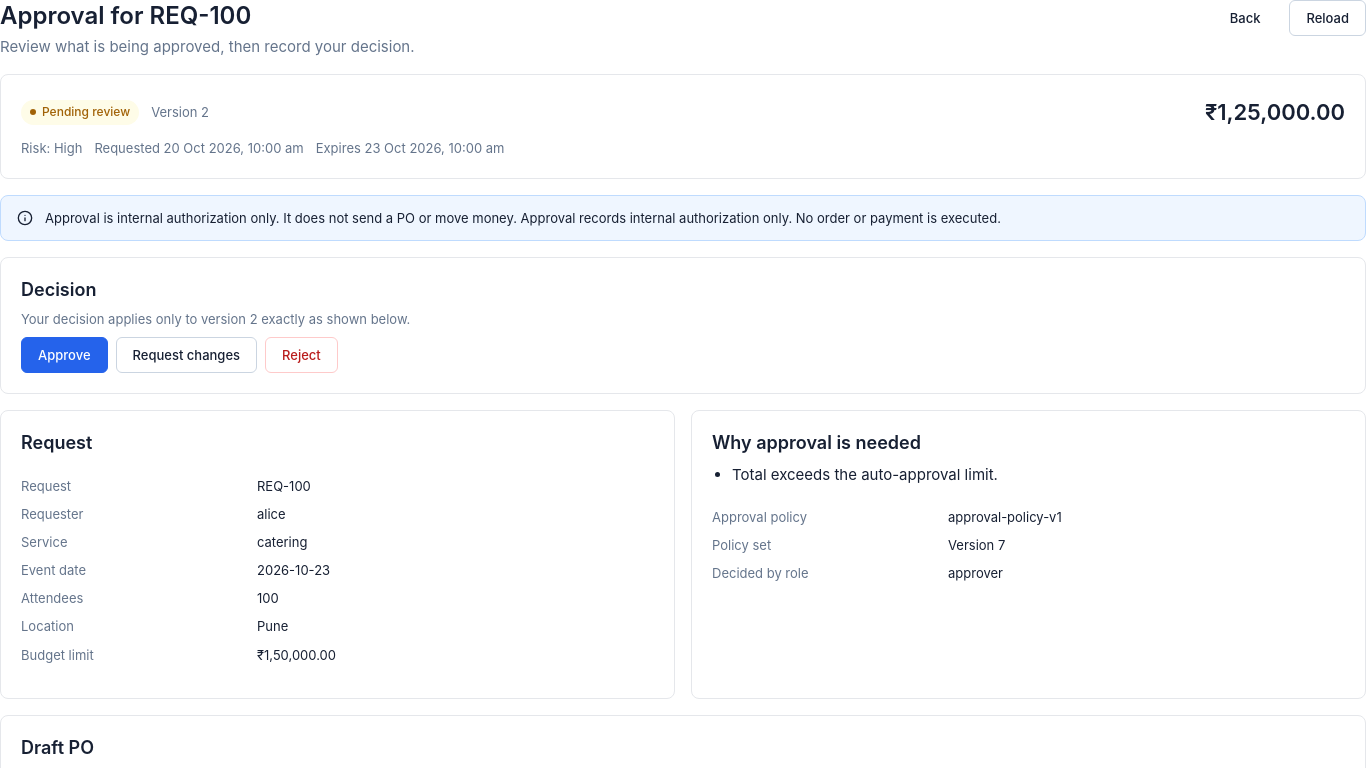
Scenario: ApprovalDetailPage › reject requires a reason before submitting
Click the button "Reject" at (301, 355), box 265,337 -> 338,373
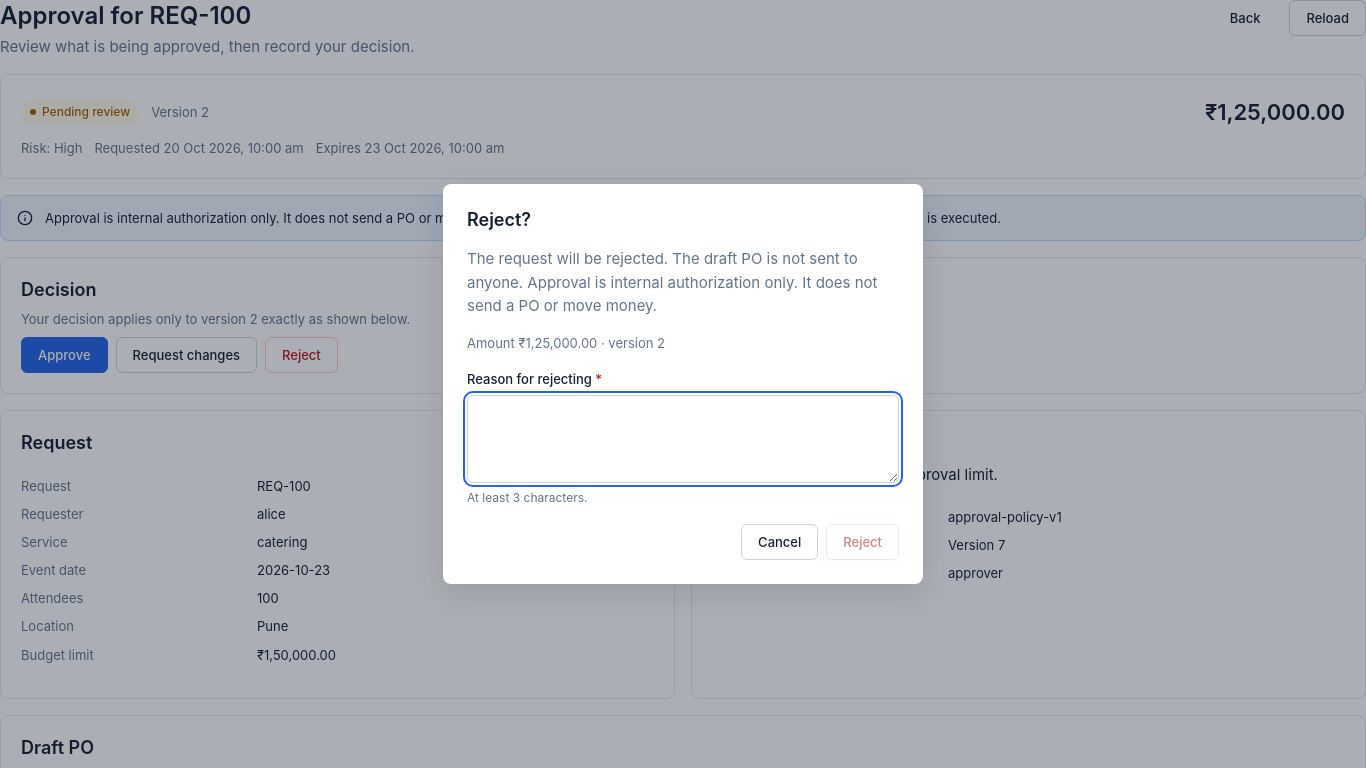
Check: the button "Reject" is disabled, box 826,524 -> 899,560
Type "Over budget" into the text box labelled "Reason for rejecting" at (683, 439), box 467,395 -> 899,483
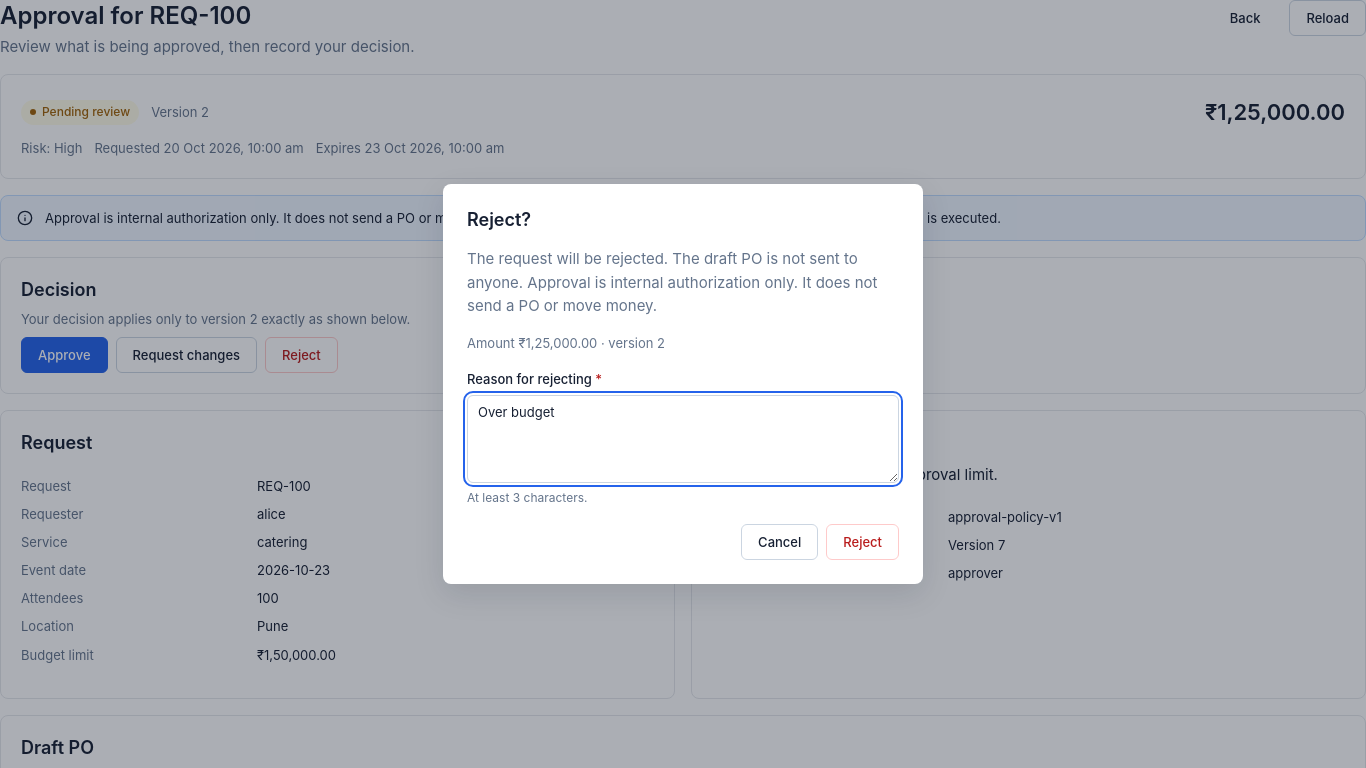
Click the button "Reject" at (863, 542), box 826,524 -> 899,560
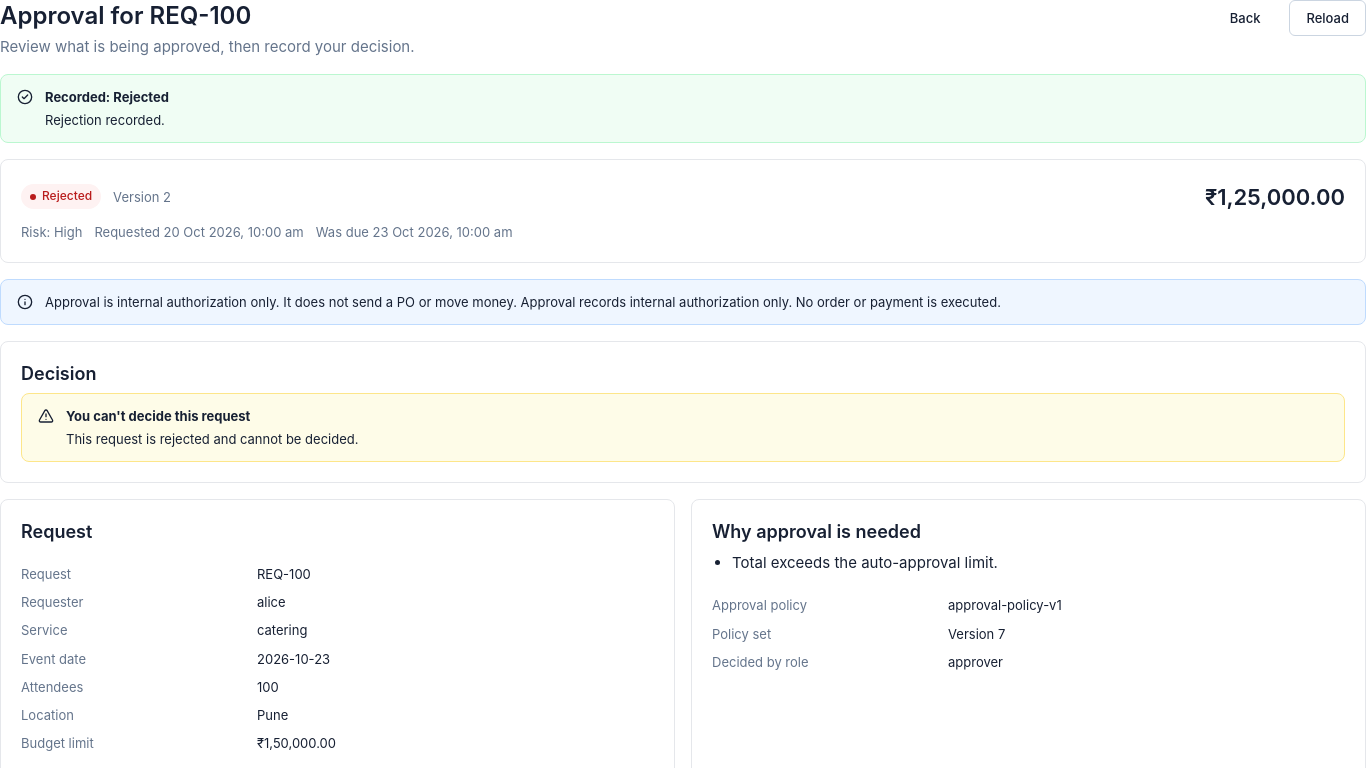
Check: the text "Recorded: Rejected" is shown, box 45,87 -> 169,108
